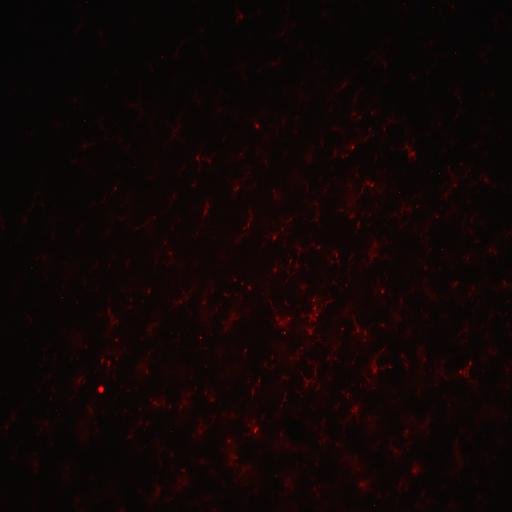microglia: (333, 388, 417, 478), (179, 272, 249, 346), (248, 94, 314, 170), (99, 330, 169, 400), (22, 225, 89, 295), (326, 98, 394, 162), (80, 169, 142, 239), (268, 165, 322, 233), (261, 228, 320, 285), (398, 242, 437, 319), (217, 429, 257, 493), (172, 138, 220, 188), (71, 379, 103, 453), (404, 350, 453, 398), (296, 286, 336, 342), (446, 267, 488, 317), (388, 179, 428, 230), (151, 109, 194, 155), (336, 312, 377, 358), (90, 343, 126, 392), (95, 121, 140, 160), (116, 408, 154, 454), (456, 208, 487, 264), (139, 298, 174, 346), (435, 159, 473, 203), (154, 466, 193, 508), (357, 231, 395, 272), (150, 184, 187, 224), (327, 394, 363, 435), (146, 233, 180, 276), (358, 343, 391, 386), (452, 350, 480, 400), (346, 177, 380, 217), (312, 342, 346, 379), (240, 413, 268, 457), (368, 276, 399, 315), (379, 300, 409, 340), (268, 296, 294, 342), (392, 129, 425, 165), (151, 45, 189, 74), (272, 388, 297, 432), (174, 384, 200, 420), (132, 211, 162, 240), (296, 353, 320, 387), (148, 385, 172, 419), (190, 417, 222, 441), (224, 169, 249, 199), (330, 71, 358, 93), (328, 239, 345, 275), (228, 275, 251, 294), (106, 305, 120, 329), (249, 374, 262, 398), (239, 210, 253, 232), (398, 2, 428, 12), (201, 202, 210, 221), (234, 9, 244, 24)
